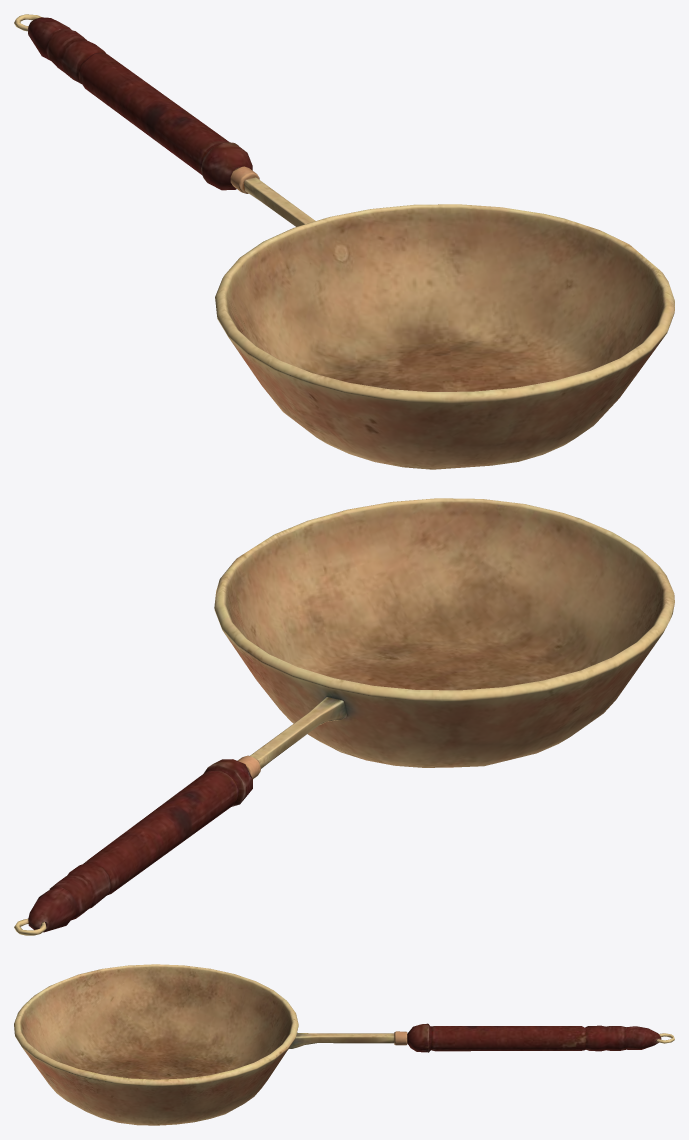
File: brass_pan_01.lod1.glb
The picture shows the model from 3 angles, top to bottom: view 1: azimuth 30°, elevation 25°; view 2: azimuth 150°, elevation 25°; view 3: azimuth 270°, elevation 25°; orthographic projection. The views are drawn at different scales.
Visible parts, largest first — view 1: brass_pan_01; view 2: brass_pan_01; view 3: brass_pan_01.
Part boxes in pixels (x1,y1,x2,y2): brass_pan_01: (14, 14, 674, 469); brass_pan_01: (14, 498, 674, 935); brass_pan_01: (14, 964, 674, 1125).
Bounding box in the file's own units: 0.1912 × 0.0523 × 0.4494.
1 material, 1 textured.
